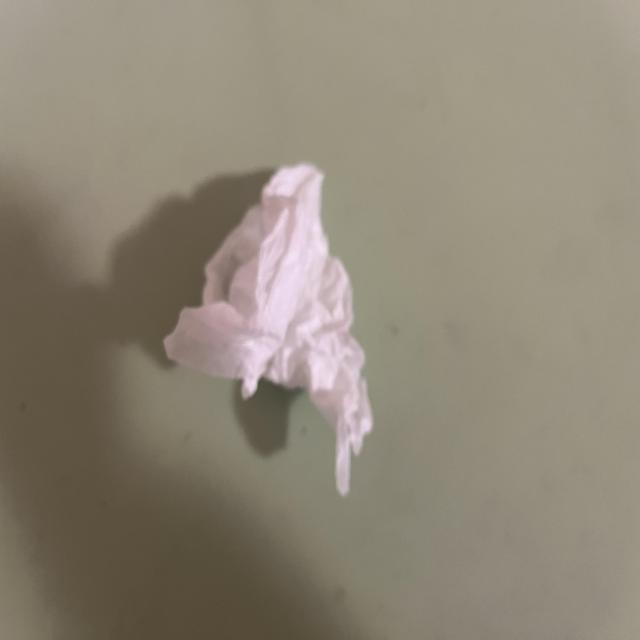衛生紙: (164, 163, 376, 500)
